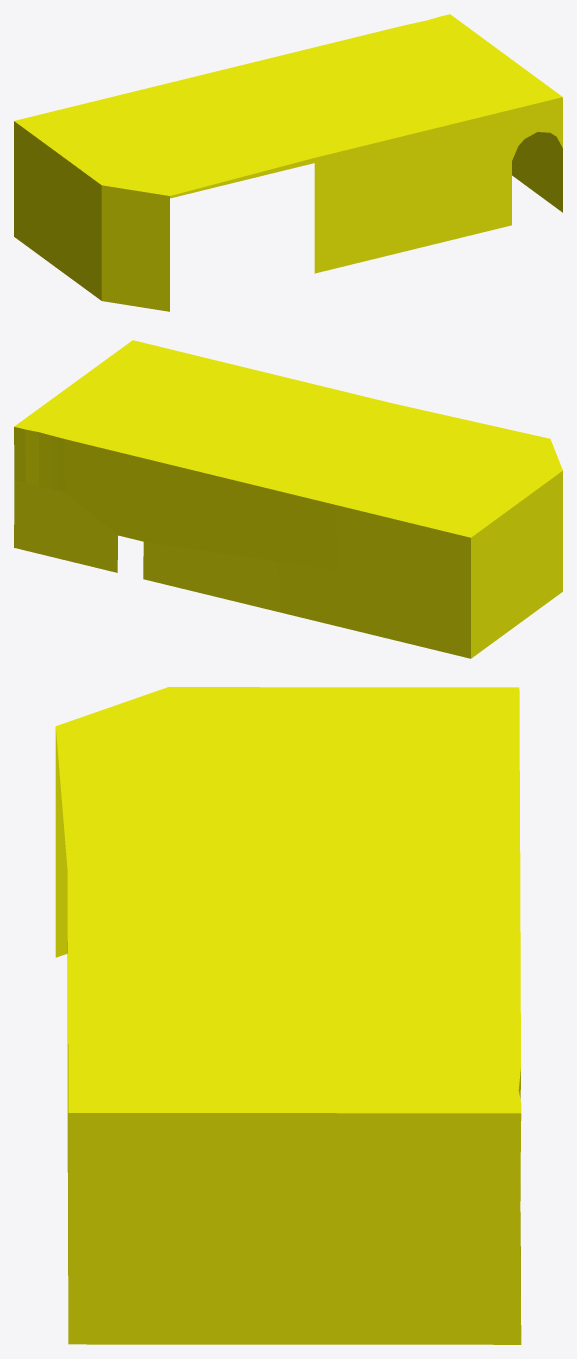
The model's file is SalleG.FBX.
3 views of the same model, one above another, from view 1: azimuth 30°, elevation 25°; view 2: azimuth 150°, elevation 25°; view 3: azimuth 270°, elevation 25° (orthographic). The views are drawn at different scales.
Parts seen in each view (by area): view 1: SalleG; view 2: SalleG; view 3: SalleG.
Boxes of the visible parts, bbox=[...] form: SalleG: bbox=[14, 14, 562, 311]; SalleG: bbox=[14, 340, 562, 658]; SalleG: bbox=[55, 687, 521, 1344].
Bounding box in the file's own units: 501 × 127 × 231.
